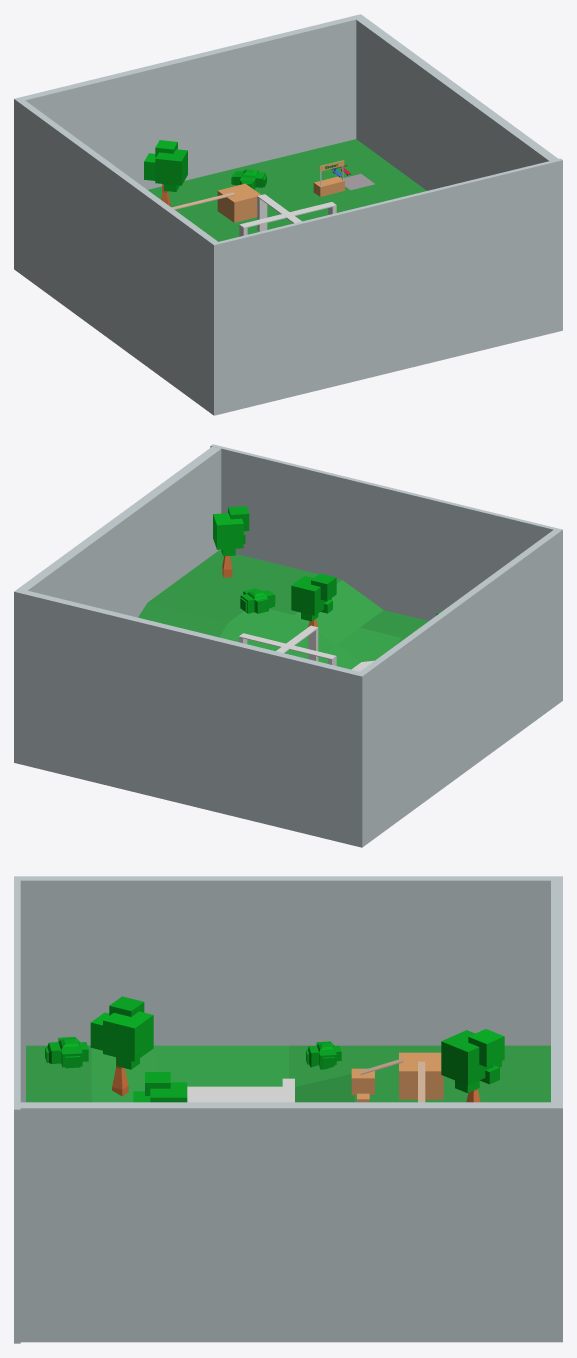
Rendered from world.glb.
The picture shows the model from 3 angles, top to bottom: view 1: azimuth 30°, elevation 25°; view 2: azimuth 150°, elevation 25°; view 3: azimuth 270°, elevation 25°; orthographic projection. The views are drawn at different scales.
Parts seen in each view (by area): view 1: Cube.002, Plane, Cube.007, Cube, Cube.028, bush; view 2: Cube.002, Plane, Cube, Cube.034, Cube.017, bush.001; view 3: Cube.002, Plane, Cube.022, Cube.004, Cube.028, water_lake, bush.005, Cube.026, bush.004, Cube.017, Cube.001.
Part boxes in pixels (box(x1,y1,x2,y2)): Cube.002: box(14, 14, 562, 415); Plane: box(148, 139, 426, 241); Cube.007: box(217, 183, 260, 222); Cube: box(239, 194, 336, 236); Cube.028: box(155, 149, 187, 185); bush: box(231, 169, 266, 189); Cube.002: box(14, 444, 562, 847); Plane: box(138, 550, 428, 669); Cube: box(239, 625, 336, 665); Cube.034: box(213, 513, 243, 549); Cube.017: box(291, 576, 326, 615); bush.001: box(240, 588, 275, 613); Cube.002: box(14, 876, 562, 1343); Plane: box(26, 1045, 550, 1102); Cube.022: box(103, 1011, 153, 1061); Cube.004: box(399, 1052, 443, 1099); Cube.028: box(441, 1030, 493, 1085); water_lake: box(187, 1086, 282, 1102); bush.005: box(45, 1036, 88, 1068); Cube.026: box(468, 1029, 504, 1067); bush.004: box(306, 1041, 341, 1069); Cube.017: box(150, 1082, 187, 1102); Cube.001: box(351, 1068, 374, 1095).
Size of the model in its own units: 91.33 by 42.65 by 90.72.
26 materials, 2 textured.
